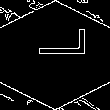L_W: (26, 40, 84, 70)
